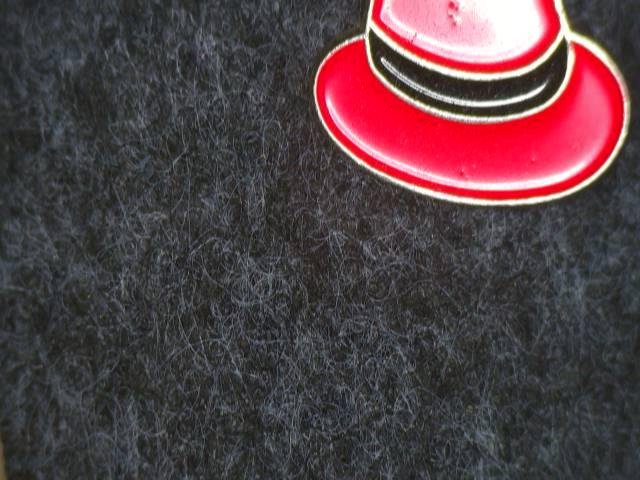Red-Hat: (310, 0, 637, 234)
